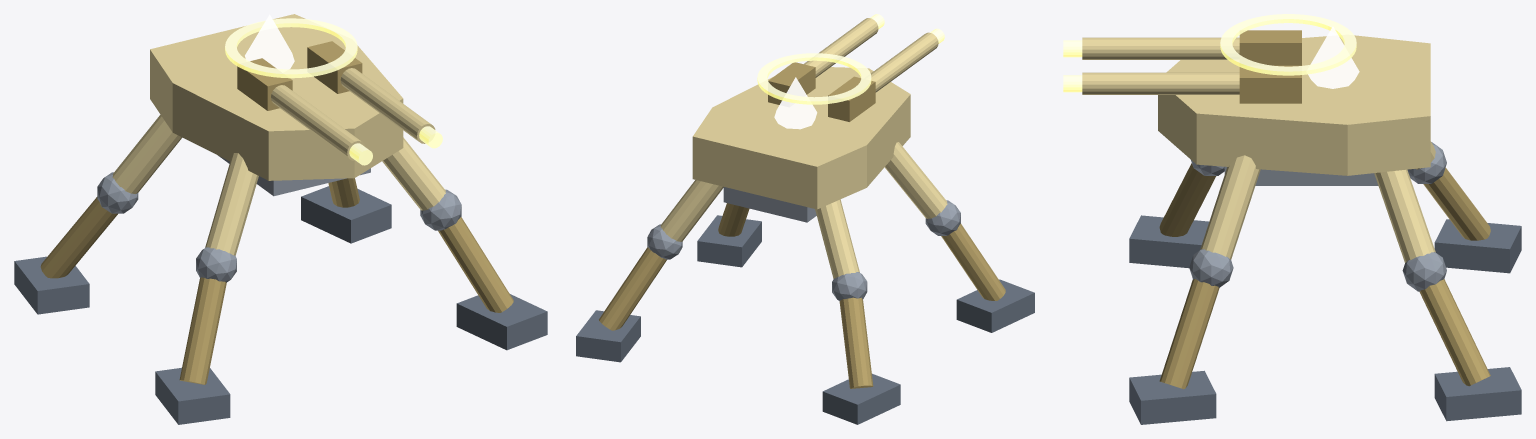
Rendered from helias_skystrider.glb.
3 views of the same model, side by side, from view 1: azimuth 30°, elevation 25°; view 2: azimuth 150°, elevation 25°; view 3: azimuth 270°, elevation 25° (orthographic). The views are drawn at different scales.
Parts seen in each view (by area): view 1: high_chassis_000, walker_foot_016, walker_foot_006, walker_foot_021, walker_foot_011, lower_leg_019, upper_leg_018, thermal_charge_029, lower_leg_014, upper_leg_008, lower_leg_009, thermal_lance_027 (+10 smaller); view 2: high_chassis_000, walker_foot_011, walker_foot_021, walker_foot_006, walker_foot_016, thermal_charge_029, lower_leg_009, lower_leg_004, upper_leg_018, upper_leg_008, lower_leg_019, upper_leg_003 (+10 smaller); view 3: high_chassis_000, walker_foot_006, walker_foot_016, thermal_lance_024, thermal_lance_027, walker_foot_011, upper_leg_013, thermal_charge_029, lower_leg_014, lower_leg_004, upper_leg_003, walker_foot_021 (+9 smaller).
Part boxes in pixels (x1=…): high_chassis_000: x1=150, y1=14, x2=403, y2=180; walker_foot_016: x1=456, y1=294, x2=547, y2=350; walker_foot_006: x1=301, y1=186, x2=391, y2=243; walker_foot_021: x1=155, y1=367, x2=230, y2=424; walker_foot_011: x1=14, y1=256, x2=89, y2=314; lower_leg_019: x1=179, y1=277, x2=226, y2=384; upper_leg_018: x1=205, y1=153, x2=258, y2=255; thermal_charge_029: x1=225, y1=18, x2=357, y2=78; lower_leg_014: x1=438, y1=217, x2=513, y2=312; upper_leg_008: x1=112, y1=114, x2=182, y2=193; lower_leg_009: x1=40, y1=197, x2=117, y2=278; thermal_lance_027: x1=271, y1=85, x2=365, y2=160; high_chassis_000: x1=692, y1=67, x2=910, y2=209; walker_foot_011: x1=822, y1=373, x2=900, y2=424; walker_foot_021: x1=956, y1=279, x2=1034, y2=332; walker_foot_006: x1=576, y1=310, x2=640, y2=362; walker_foot_016: x1=697, y1=215, x2=761, y2=267; thermal_charge_029: x1=757, y1=53, x2=871, y2=104; lower_leg_009: x1=839, y1=297, x2=873, y2=388; lower_leg_004: x1=599, y1=247, x2=666, y2=330; upper_leg_018: x1=884, y1=142, x2=947, y2=218; upper_leg_008: x1=815, y1=199, x2=859, y2=278; lower_leg_019: x1=941, y1=223, x2=1005, y2=300; upper_leg_003: x1=660, y1=180, x2=723, y2=241; high_chassis_000: x1=1158, y1=35, x2=1430, y2=175; walker_foot_006: x1=1434, y1=367, x2=1521, y2=421; walker_foot_016: x1=1129, y1=370, x2=1216, y2=424; thermal_lance_024: x1=1082, y1=72, x2=1239, y2=94; thermal_lance_027: x1=1082, y1=37, x2=1239, y2=59; walker_foot_011: x1=1434, y1=219, x2=1521, y2=273; upper_leg_013: x1=1200, y1=155, x2=1260, y2=259; thermal_charge_029: x1=1220, y1=14, x2=1356, y2=75; lower_leg_014: x1=1159, y1=279, x2=1219, y2=389; lower_leg_004: x1=1419, y1=279, x2=1490, y2=386; upper_leg_003: x1=1374, y1=169, x2=1435, y2=262; walker_foot_021: x1=1129, y1=215, x2=1208, y2=268.
Bounding box in the file's own units: 4.11 × 3.17 × 4.3.
